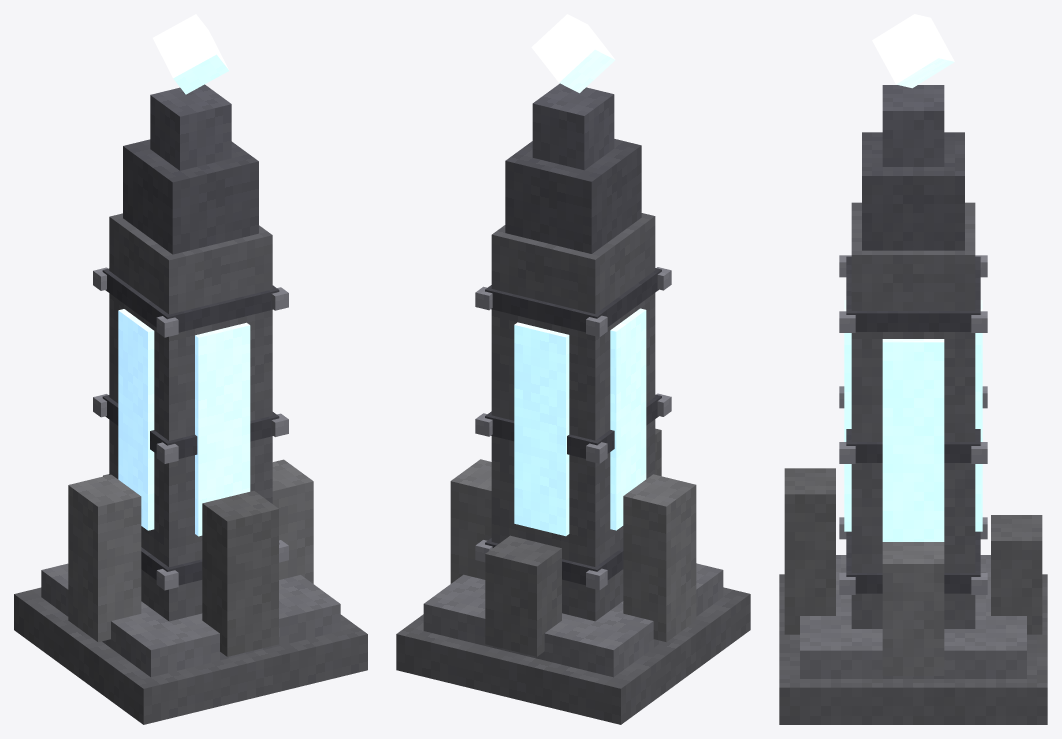
File: obelisk_montagnes.glb
3 views of the same model, side by side, from view 1: azimuth 30°, elevation 25°; view 2: azimuth 150°, elevation 25°; view 3: azimuth 270°, elevation 25° (orthographic). The views are drawn at different scales.
Visible parts, largest first — view 1: Obelisk; view 2: Obelisk; view 3: Obelisk.
Part boxes in pixels (x1,y1,x2,y2): Obelisk: (14,14,367,724); Obelisk: (396,14,750,724); Obelisk: (779,14,1047,724).
Bounding box in the file's own units: 1.3 × 3.51 × 1.3.
Materials: 12 (12 with a texture image).
